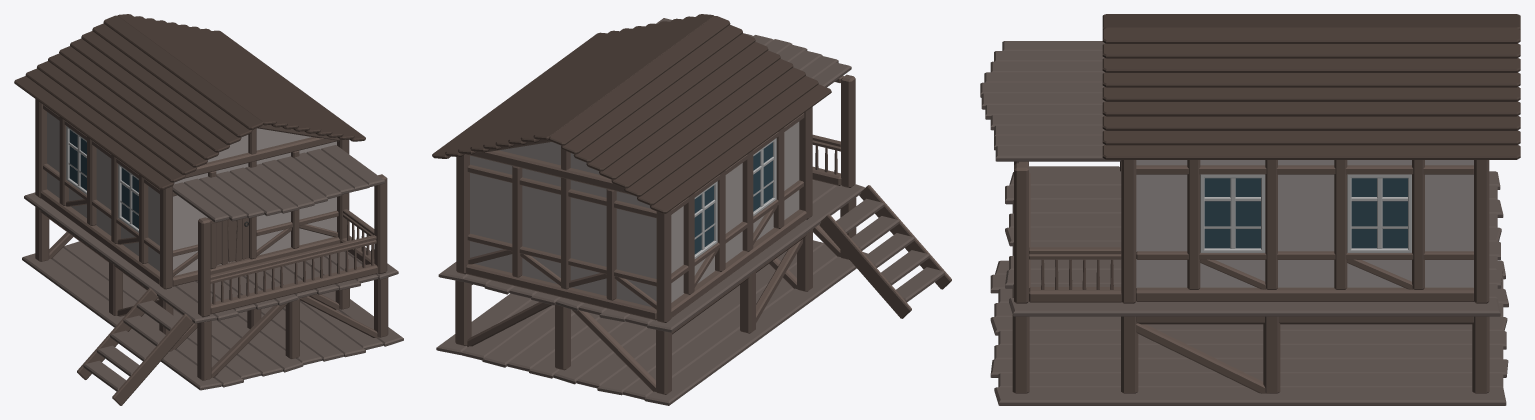
The model's file is farmstractures_13.glb.
The picture shows the model from 3 angles, left to right: view 1: azimuth 30°, elevation 25°; view 2: azimuth 150°, elevation 25°; view 3: azimuth 270°, elevation 25°; orthographic projection. The views are drawn at different scales.
Parts seen in each view (by area): view 1: farmstractures_13; view 2: farmstractures_13; view 3: farmstractures_13.
Boxes of the visible parts, <box> form: farmstractures_13: <box>14,14,403,405</box>; farmstractures_13: <box>432,14,951,405</box>; farmstractures_13: <box>980,14,1520,405</box>.
Size of the model in its own units: 6.6 by 4.91 by 7.71.
Materials: 1 (1 with a texture image).
